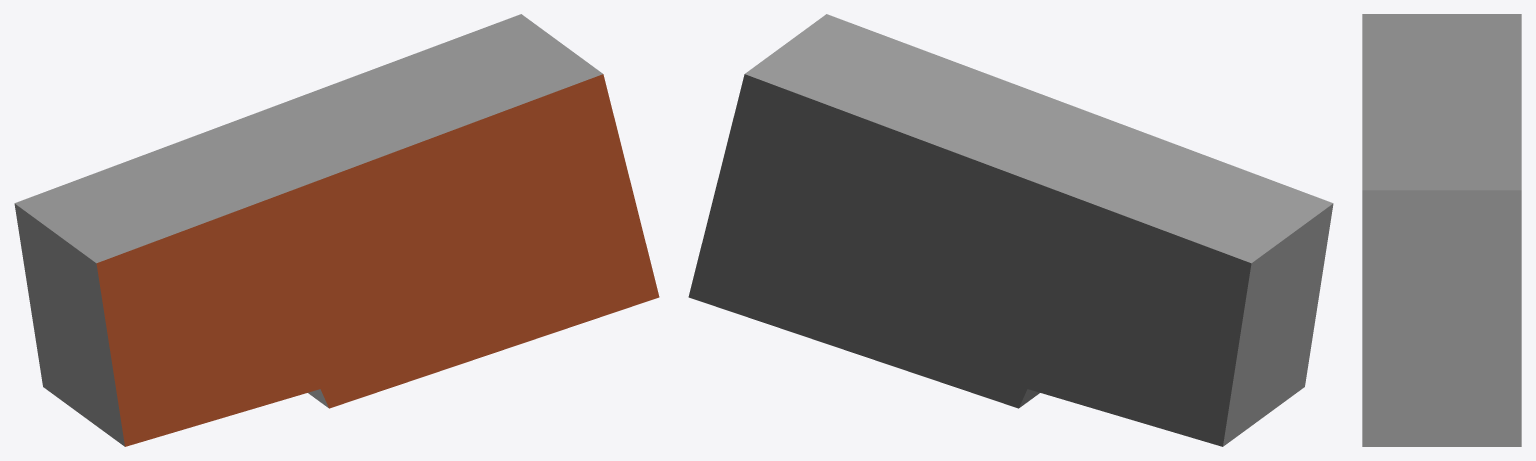
Rendered from construction_3866_assumed_A_Casa_h6m.obj.
3 renders of one model, left to right at view 1: azimuth 30°, elevation 25°; view 2: azimuth 150°, elevation 25°; view 3: azimuth 270°, elevation 25°, orthographic. The views are drawn at different scales.
Parts seen in each view (by area): view 1: construction_3866_assumed_A_Casa; view 2: construction_3866_assumed_A_Casa; view 3: construction_3866_assumed_A_Casa.
Boxes of the visible parts, left/top/right/bottom form: construction_3866_assumed_A_Casa: left=14, top=14, right=659, bottom=446; construction_3866_assumed_A_Casa: left=688, top=14, right=1333, bottom=446; construction_3866_assumed_A_Casa: left=1362, top=14, right=1521, bottom=446.
Size of the model in its own units: 23.77 by 10.8 by 6.
